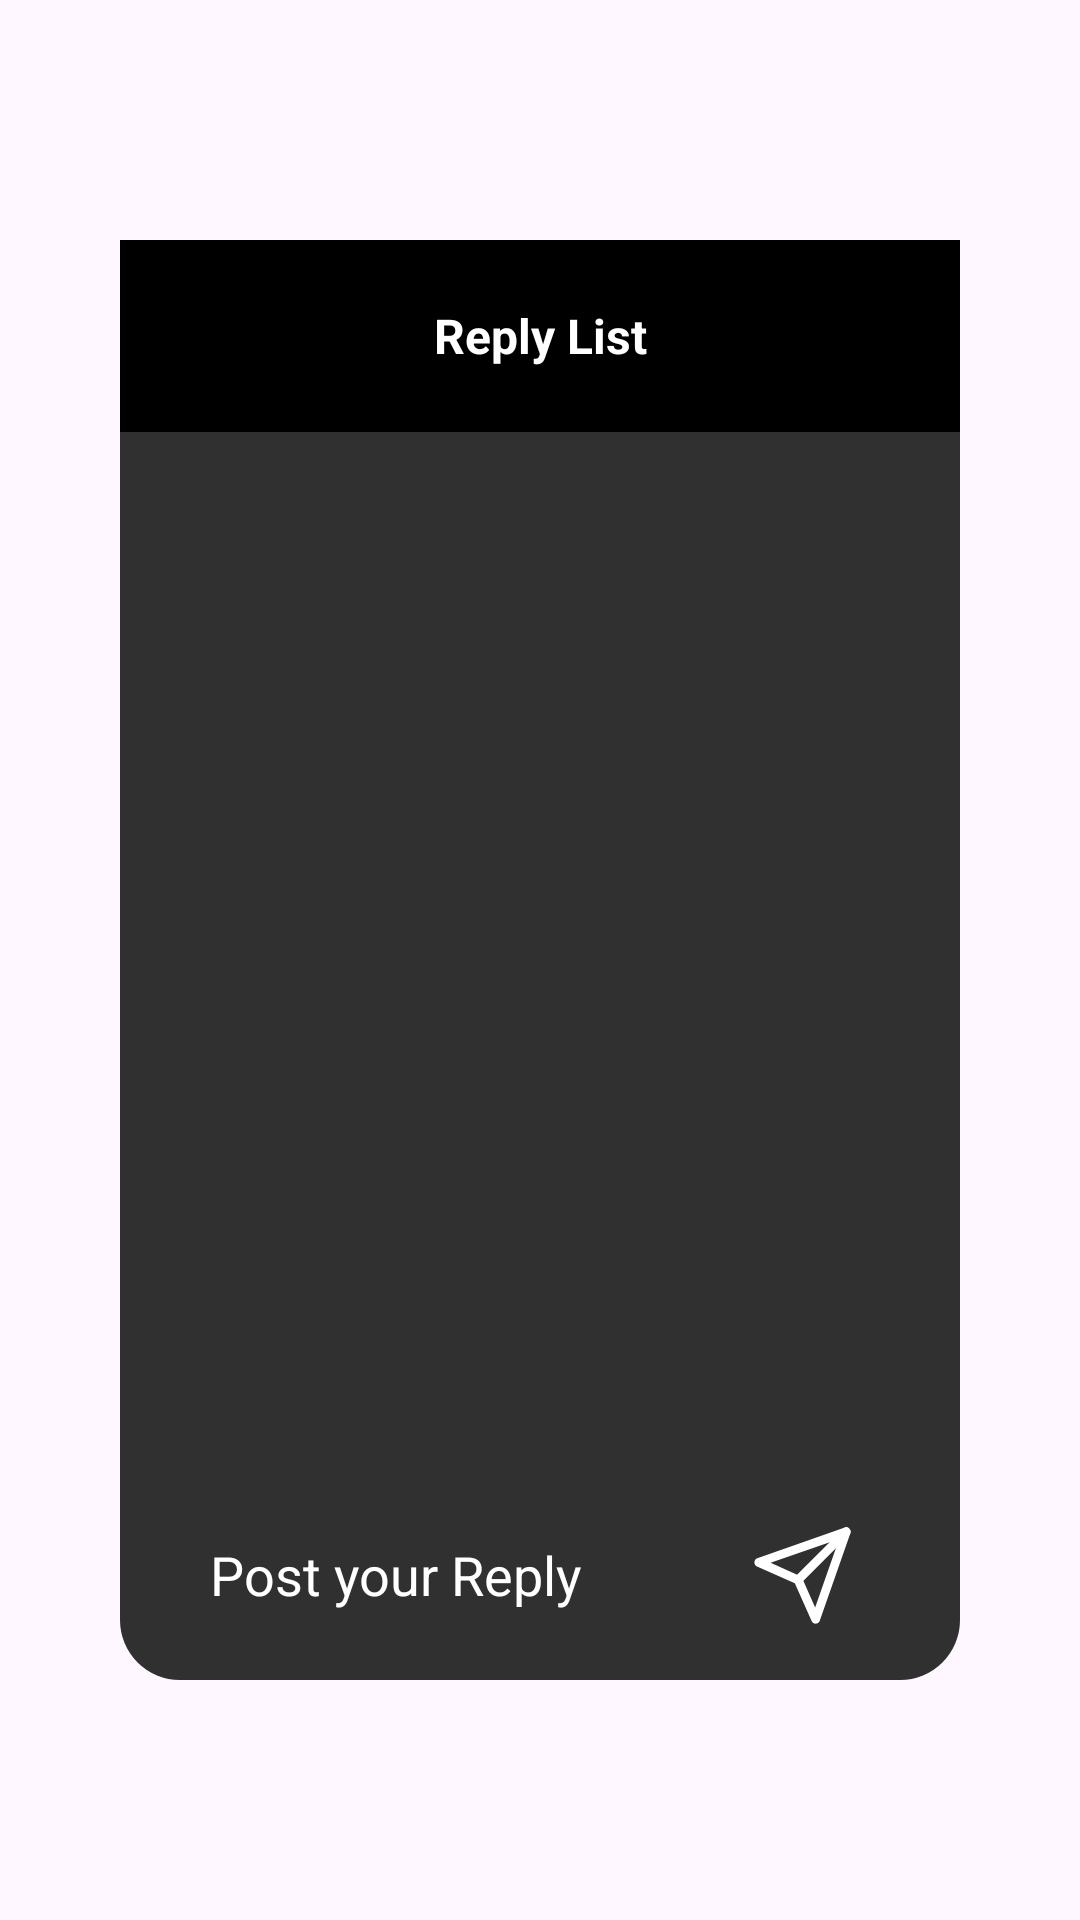

Where to tap for icons on this 1080×1920 app screen, as [x,y]:
send: [802,1575]
